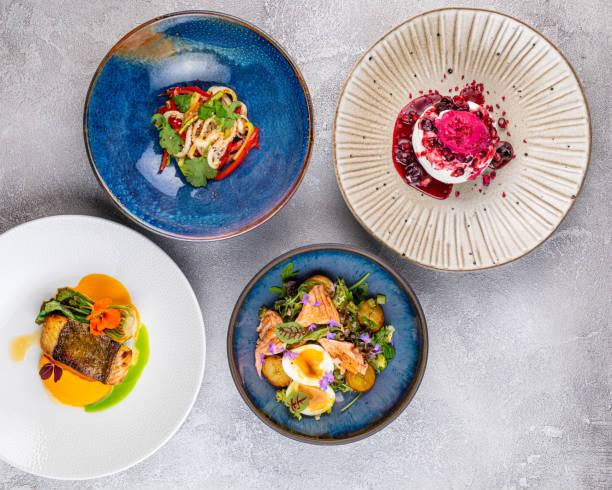Braised Crucian Carp: (334, 6, 588, 272), (83, 9, 315, 244), (0, 218, 204, 472), (226, 243, 422, 445)
